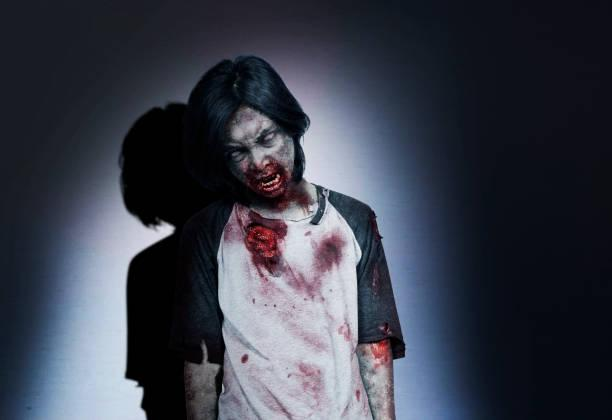Zombie: (214, 114, 301, 202)
